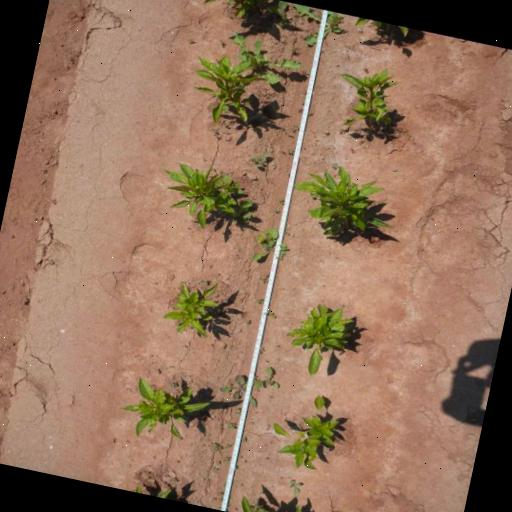plant: (293, 166, 398, 238), (264, 386, 348, 476), (278, 296, 360, 380), (117, 376, 211, 440), (190, 52, 267, 124), (162, 159, 233, 231), (339, 66, 402, 133), (162, 279, 221, 338), (197, 0, 265, 21)
weed: (230, 30, 304, 85), (282, 2, 348, 52), (248, 223, 290, 266), (215, 372, 258, 409), (255, 362, 285, 392), (260, 0, 292, 28), (231, 194, 257, 225), (248, 148, 270, 168), (286, 478, 304, 494), (249, 500, 266, 512), (256, 270, 270, 284), (216, 484, 226, 502), (210, 441, 224, 452), (210, 127, 222, 138), (298, 66, 310, 76), (266, 308, 278, 318), (328, 160, 340, 169), (234, 406, 244, 416), (254, 295, 264, 304), (288, 44, 298, 52), (290, 122, 300, 130), (226, 420, 236, 428), (198, 276, 208, 284), (258, 345, 266, 354), (222, 454, 231, 462), (170, 474, 178, 483), (168, 380, 178, 387), (216, 36, 224, 44), (186, 34, 194, 42), (276, 196, 284, 204), (244, 317, 251, 324), (286, 130, 294, 136), (286, 146, 294, 152), (296, 106, 303, 112), (308, 108, 314, 114), (274, 208, 280, 214), (240, 436, 246, 442), (224, 442, 230, 448), (212, 466, 218, 470), (302, 88, 306, 92)
